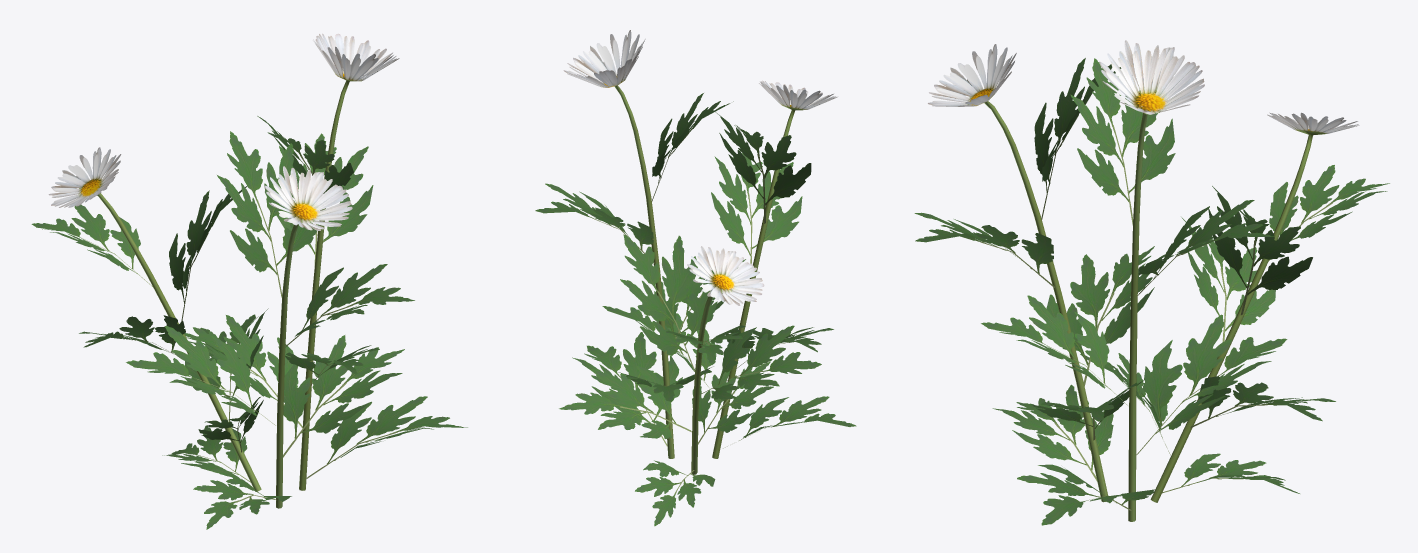
Rendered from PlantFlower.fbx.
3 renders of one model, left to right at view 1: azimuth 30°, elevation 25°; view 2: azimuth 150°, elevation 25°; view 3: azimuth 270°, elevation 25°, orthographic. The views are drawn at different scales.
Parts seen in each view (by area): view 1: Tree_2; view 2: Tree_2; view 3: Tree_2.
Boxes of the visible parts, left/top/right/bottom form: Tree_2: left=31, top=33, right=467, bottom=529; Tree_2: left=535, top=30, right=856, bottom=526; Tree_2: left=914, top=40, right=1389, bottom=525.
Bounding box in the file's own units: 73.99 × 92.84 × 80.04.
3 materials, 3 textured.
